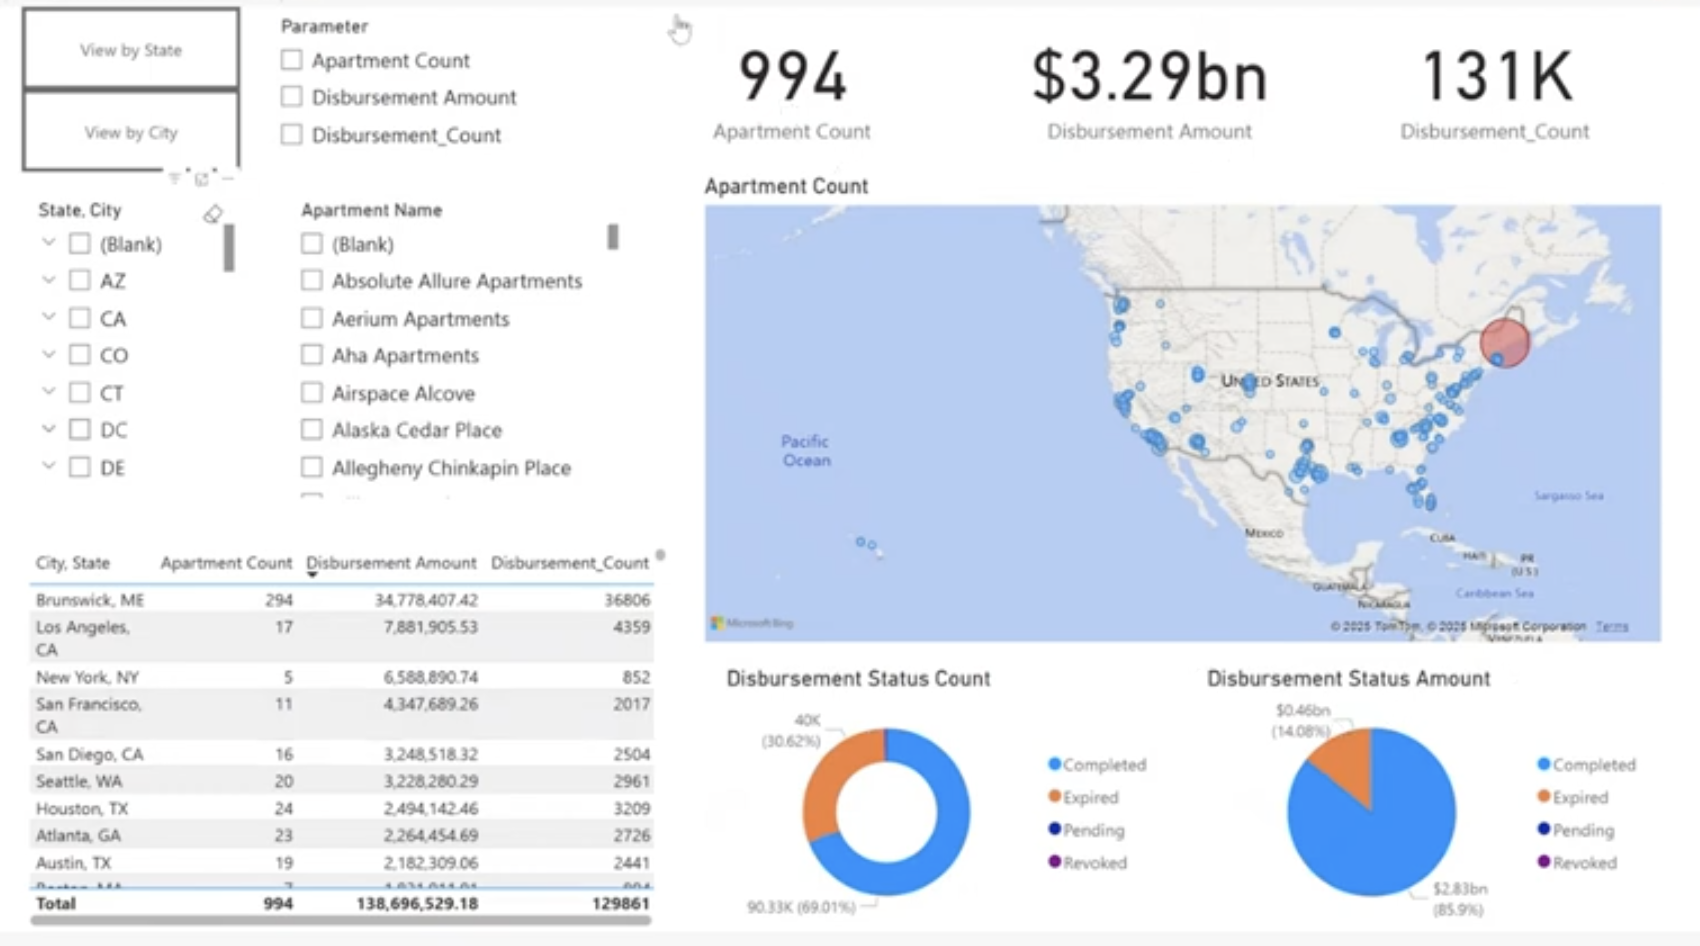

The page's visual inventory and layout, read from the dashboard file:
{"tool":"powerbi","page":{"name":"Apartment Overview","canvas":[1280,720],"ordinal":0},"visuals":[{"type":"tableEx","fields":{"Values":["new_san_apt_ref.City_State","new_san_apt_ref.Apartment Count","df_SAN_Disbursements.Disbursement Amount","df_SAN_Disbursements.Disbursement_Count"]},"box":[0,415.7,505.7,304.3],"z":0},{"type":"map","fields":{"Size":["new_san_apt_ref.Apartment Count"],"Category":["new_san_apt_ref.City_State"]},"box":[525.7,128.6,754.3,370],"z":1000},{"type":"tableEx","fields":{"Values":["new_san_apt_ref.State","new_san_apt_ref.Apartment Count","df_SAN_Disbursements.Disbursement Amount","df_SAN_Disbursements.Disbursement_Count"]},"box":[0,387.1,515.7,332.9],"z":2000},{"type":"filledMap","fields":{"Category":["new_san_apt_ref.State"]},"box":[525.7,128.6,754.3,370],"z":3000},{"type":"slicer","fields":{"Values":["Parameter 2.Parameter"]},"box":[188.6,0,254.3,128.6],"z":4000},{"type":"actionButton","box":[0,64.3,170,64.3],"z":4001},{"type":"actionButton","box":[0,0,170,64.3],"z":4002},{"type":"card","fields":{"Values":["new_san_apt_ref.Apartment Count"]},"box":[468.6,0,261.4,114.3],"z":4003},{"type":"slicer","fields":{"Values":["new_san_apt_ref.State","new_san_apt_ref.City"]},"box":[0,142.9,170,234.3],"z":4005},{"type":"card","fields":{"Values":["df_SAN_Disbursements.Disbursement Amount"]},"box":[742.9,0,268.6,114.3],"z":4006},{"type":"card","fields":{"Values":["df_SAN_Disbursements.Disbursement_Count"]},"box":[1011.4,0,268.6,114.3],"z":4007},{"type":"slicer","fields":{"Values":["new_san_apt_ref.SanitizedName"]},"box":[204.3,142.9,264.3,244.3],"z":4008},{"type":"pieChart","title":"Disbursement Status Amount","fields":{"Y":["df_SAN_Disbursements.Complete","df_SAN_Disbursements.Expired","df_SAN_Disbursements.Pending","df_SAN_Disbursements.Revoked"]},"box":[917.1,511.4,352.9,208.6],"z":4009},{"type":"donutChart","title":"Disbursement Status Count","fields":{"Y":["df_SAN_Disbursements.Complete Count","df_SAN_Disbursements.Expired Count","df_SAN_Disbursements.Pending Count","df_SAN_Disbursements.Revoked Count"]},"box":[542.9,511.4,345.7,208.6],"z":4010}]}

Visuals, with their boxes on the page's 1280x720 design canvas (x1, y1, x2, y2). These are canvas units, not pixel positions in the 1700x946 screenshot, which may show the page scaled, cropped or inside an application window:
tableEx - new_san_apt_ref.City_State x new_san_apt_ref.Apartment Count: bbox(0, 416, 506, 720)
map - new_san_apt_ref.Apartment Count x new_san_apt_ref.City_State: bbox(526, 129, 1280, 499)
tableEx - new_san_apt_ref.State x new_san_apt_ref.Apartment Count: bbox(0, 387, 516, 720)
filledMap - new_san_apt_ref.State: bbox(526, 129, 1280, 499)
slicer - Parameter 2.Parameter: bbox(189, 0, 443, 129)
actionButton: bbox(0, 64, 170, 129)
actionButton: bbox(0, 0, 170, 64)
card - new_san_apt_ref.Apartment Count: bbox(469, 0, 730, 114)
slicer - new_san_apt_ref.State x new_san_apt_ref.City: bbox(0, 143, 170, 377)
card - df_SAN_Disbursements.Disbursement Amount: bbox(743, 0, 1012, 114)
card - df_SAN_Disbursements.Disbursement_Count: bbox(1011, 0, 1280, 114)
slicer - new_san_apt_ref.SanitizedName: bbox(204, 143, 469, 387)
"Disbursement Status Amount" pieChart: bbox(917, 511, 1270, 720)
"Disbursement Status Count" donutChart: bbox(543, 511, 889, 720)
